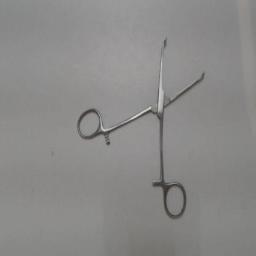Allis Tissue Forceps: (72, 30, 212, 224)
